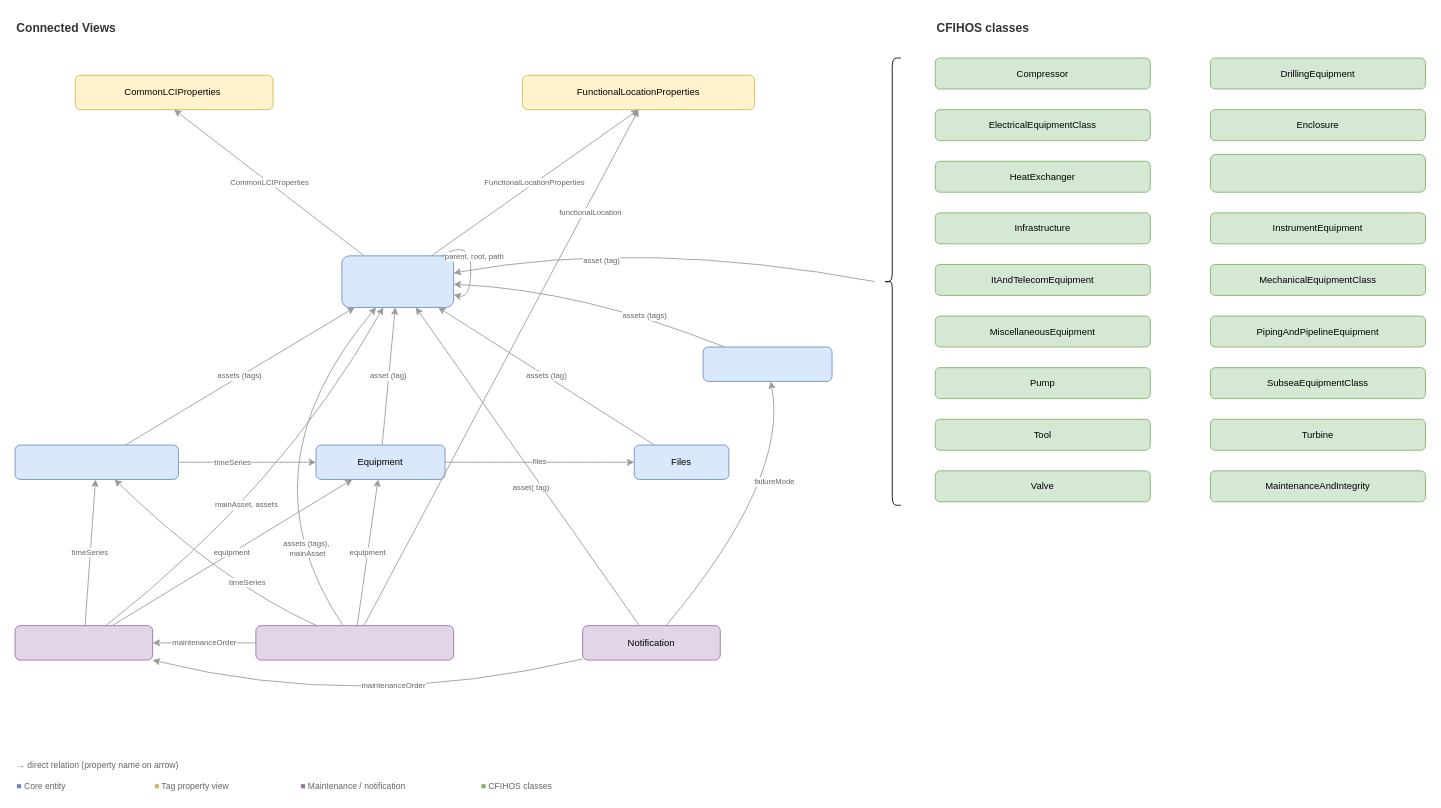
The diagram is 1441 pixels wide and 808 high, and some of its shapes have lost their labels. Here are the shapes that lost their labels. From the top down, the centre of each, then its label:
At point (1317, 173): "HealthSafetyAnd EnvironmentEquipmentClass".
At point (397, 281): "Tag".
At point (767, 363): "FailureMode (ISO 14224)".
At point (96, 461): "TimeSeriesData".
At point (83, 642): "WorkOrder".
At point (354, 642): "WorkOrderOperation".
